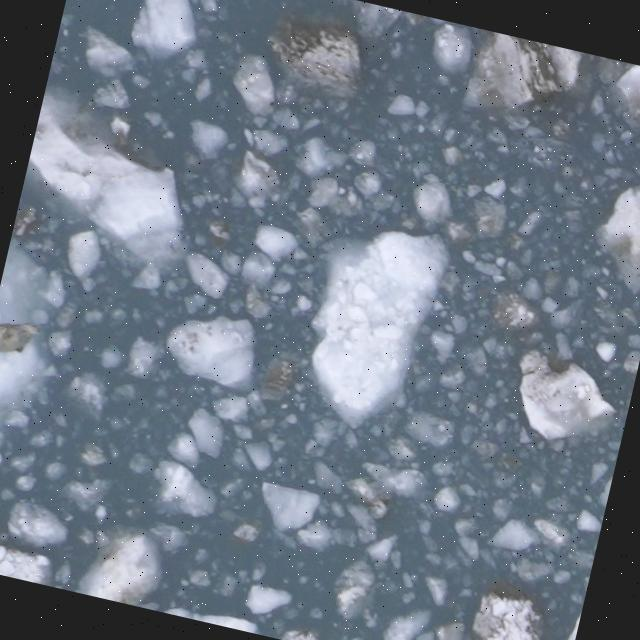seal: (0, 312, 45, 366)
